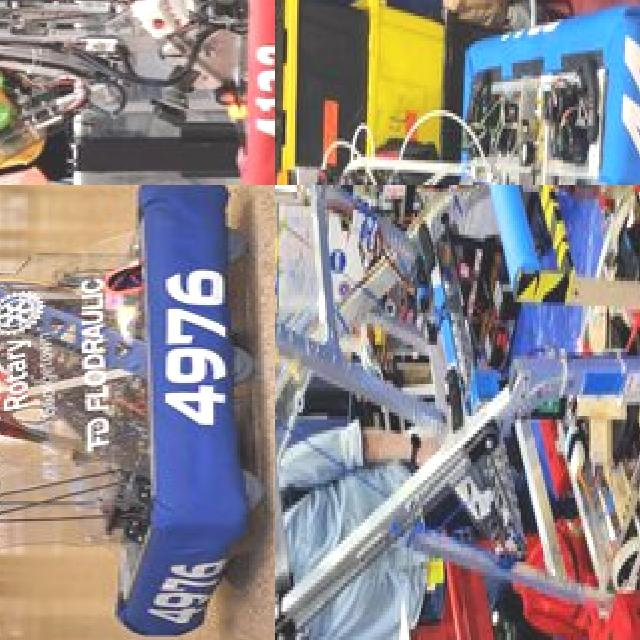FRC-Robots: (275, 185, 640, 640), (0, 185, 263, 640), (275, 0, 640, 185), (0, 0, 275, 185)
